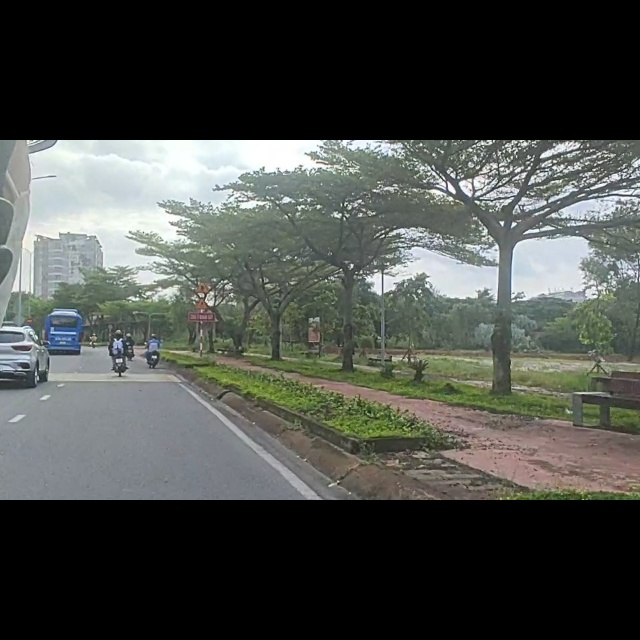bien_nguy_hiem: (194, 276, 211, 302)
